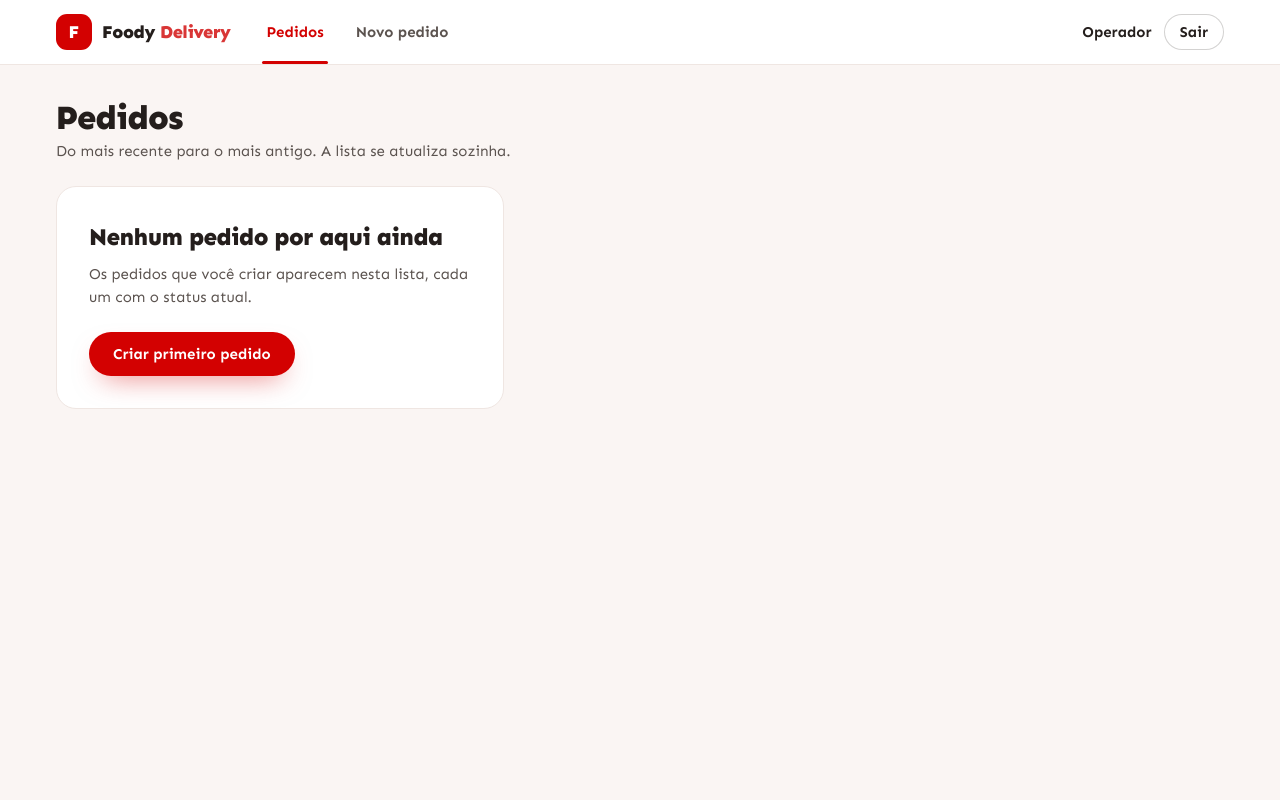
Test: lista de pedidos › convida a criar o primeiro pedido quando a lista está vazia
Check: the heading "Nenhum pedido por aqui ainda" is shown, box [89,219,471,255]
Click the link "Criar primeiro pedido": coordinates (192, 354) [89,332,295,376]
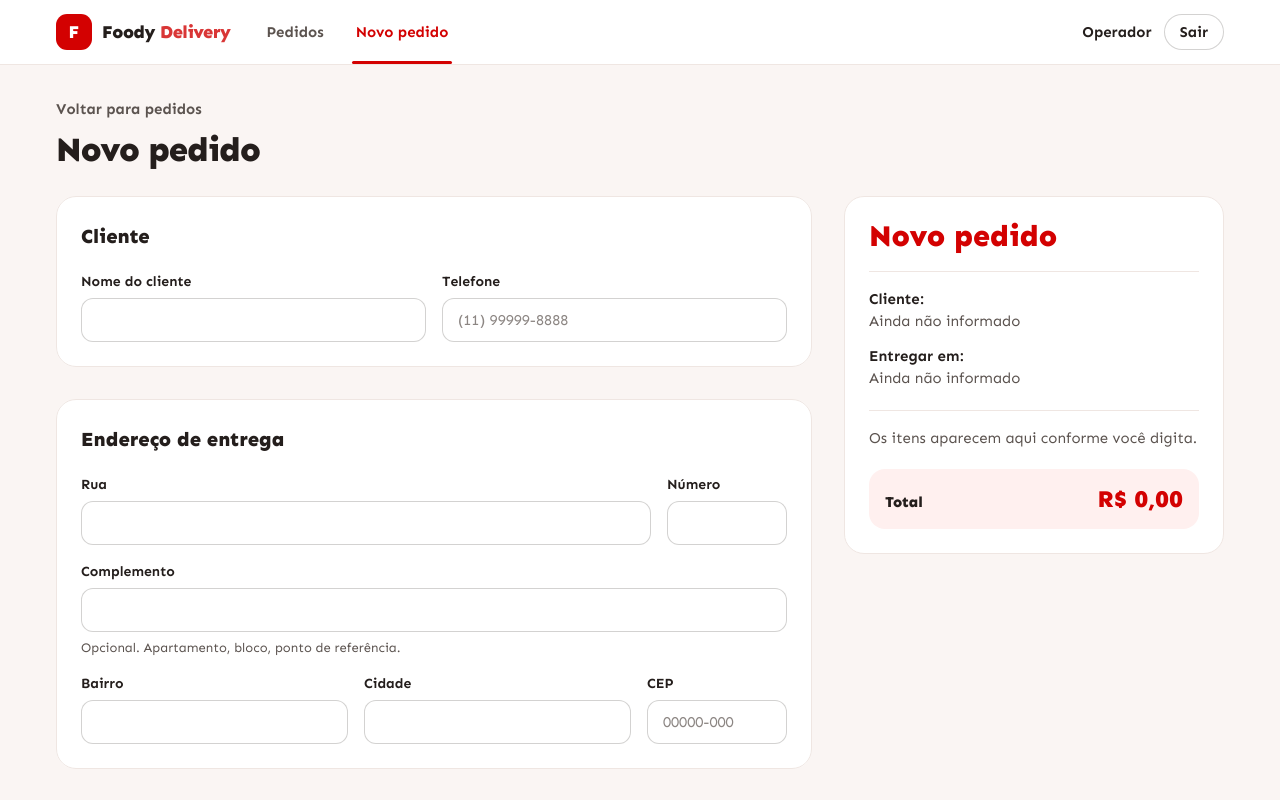
Check: the heading "Novo pedido" is shown, box [56,129,260,170]
